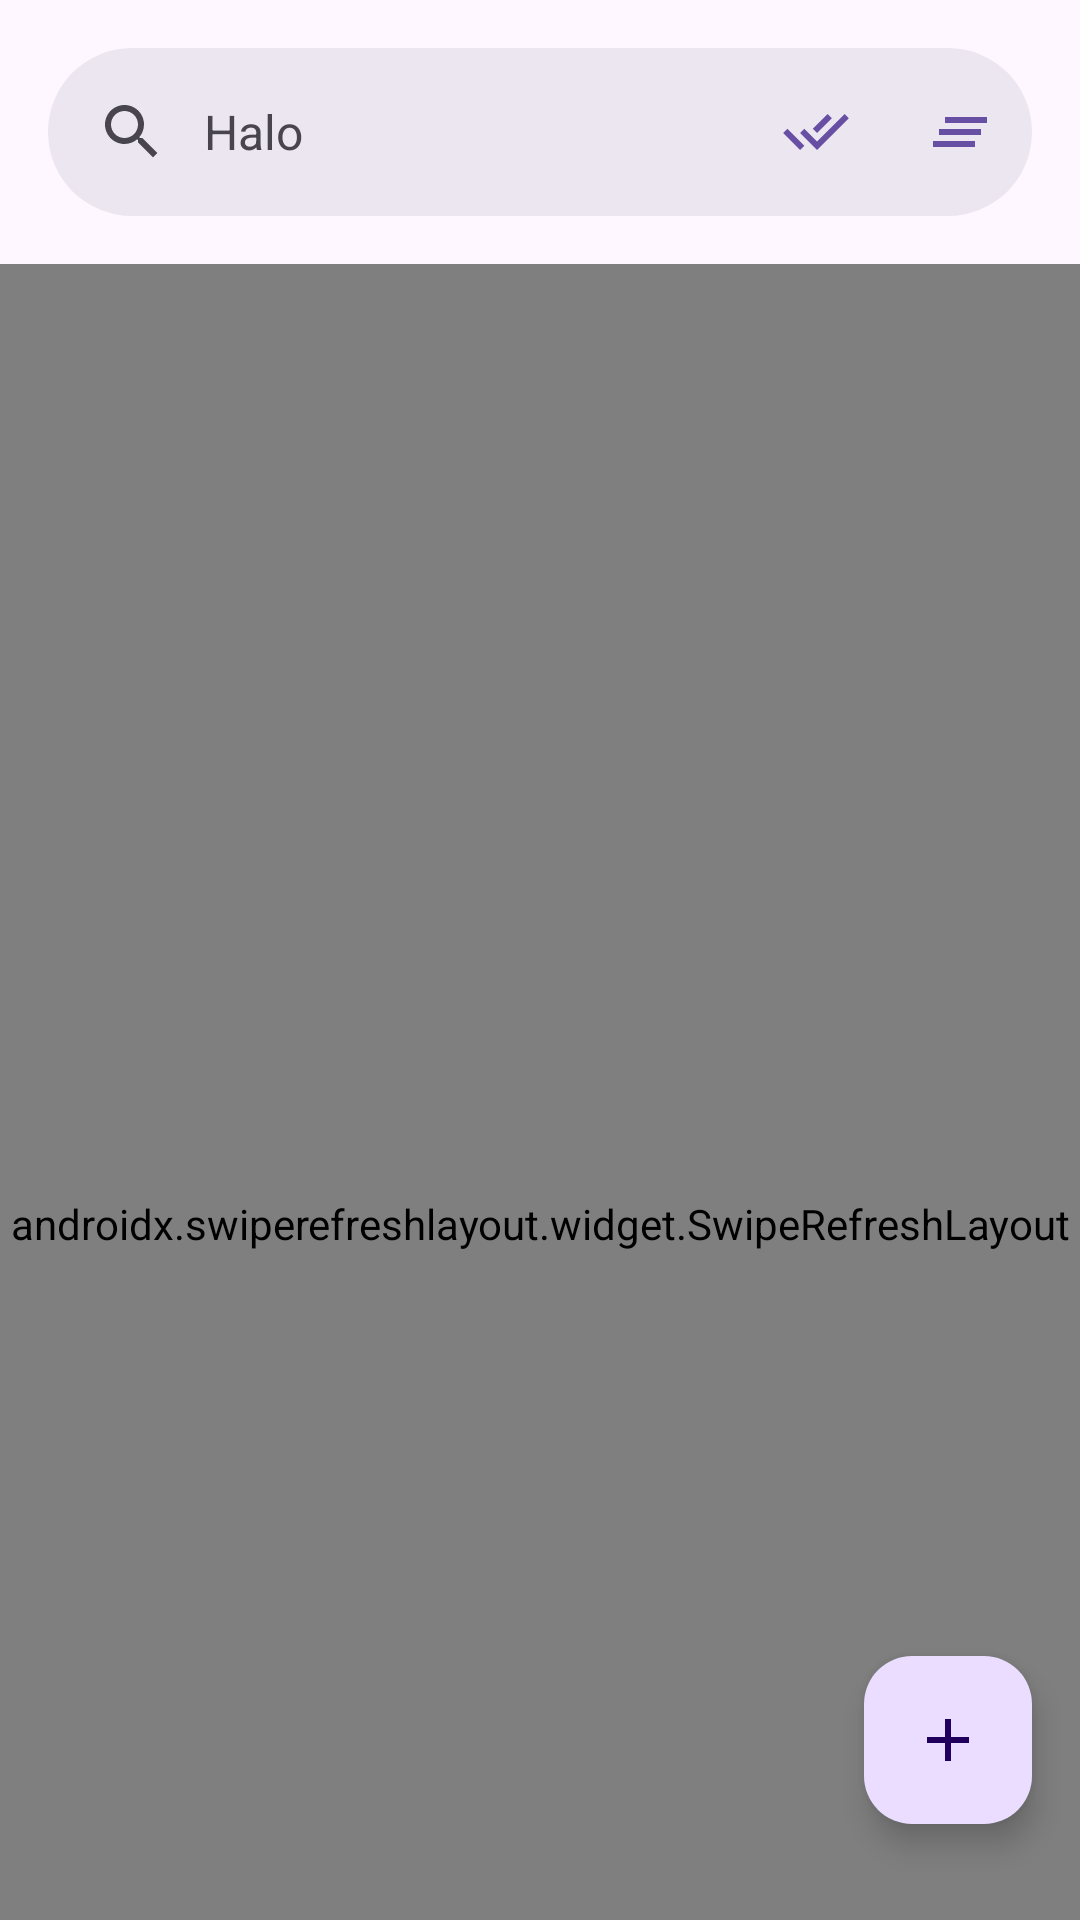

Named icons in this screenshot (1080 × 1920) and their centers, [x,y]:
add note: [948,1740]
